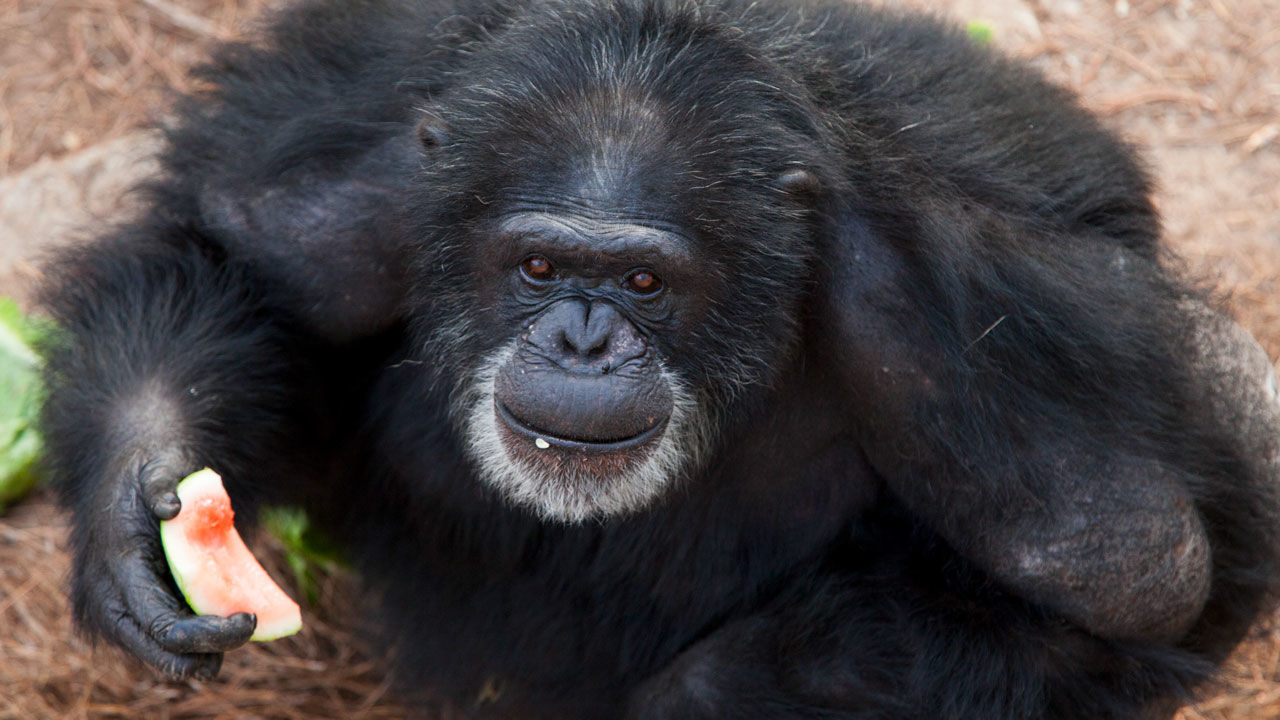Chimpanzee: (150, 22, 1202, 684)
